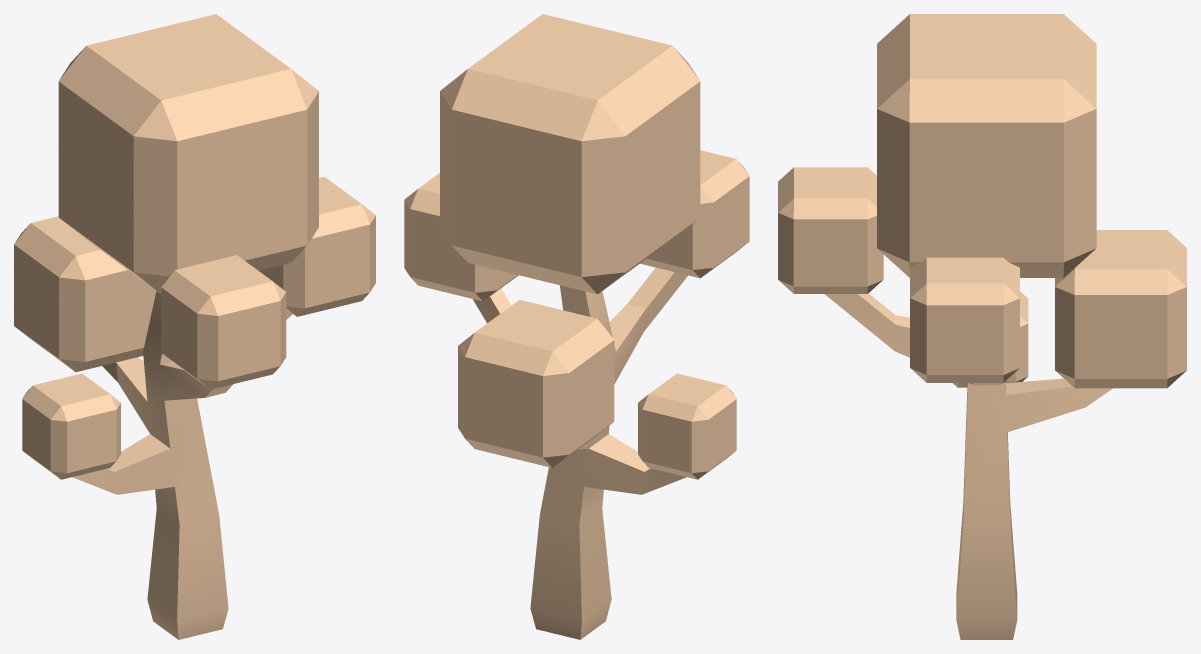
Rendered from tree_detailed_dark.fbx.
3 views of the same model, side by side, from view 1: azimuth 30°, elevation 25°; view 2: azimuth 150°, elevation 25°; view 3: azimuth 270°, elevation 25° (orthographic). The views are drawn at different scales.
Parts seen in each view (by area): view 1: tree_detailed_dark; view 2: tree_detailed_dark; view 3: tree_detailed_dark.
Part boxes in pixels (box(x1,y1,x2,y2)): tree_detailed_dark: box(14, 14, 375, 639); tree_detailed_dark: box(404, 14, 749, 639); tree_detailed_dark: box(778, 14, 1186, 639).
Size of the model in its own units: 228 by 400 by 254.
